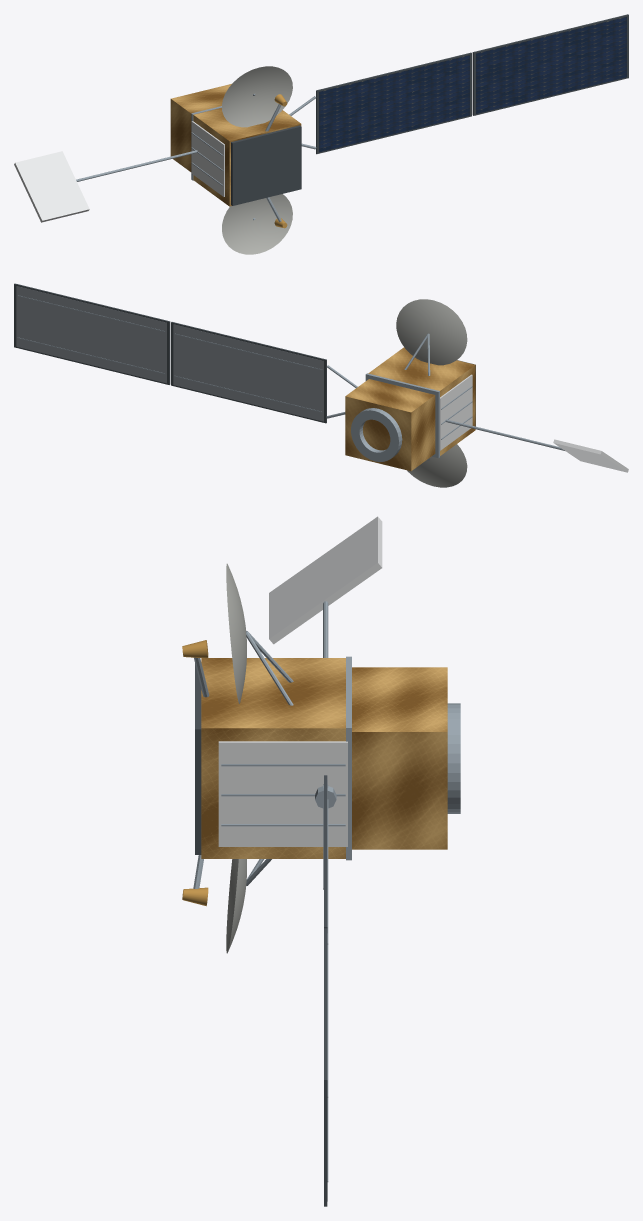
The model's file is ref-i2k-22027.glb.
3 renders of one model, top to bottom at view 1: azimuth 30°, elevation 25°; view 2: azimuth 150°, elevation 25°; view 3: azimuth 270°, elevation 25°, orthographic. The views are drawn at different scales.
Parts seen in each view (by area): view 1: Solar cell panel (×2), Communications reflector (×2), Earth-facing deck, Solar pressure sail, Payload module, Service module, Solar panel frame (×2), Radiator face, Outboard boom; view 2: Rear array substrate (×2), Service module, Communications reflector (×2), Payload module, Solar panel frame (×2), Radiator face, Launch adapter ring, Solar pressure sail, Module interface, Outboard boom; view 3: Service module, Payload module, Radiator face, Solar pressure sail, Communications reflector (×2), Launch adapter ring, Earth-facing deck, Solar panel frame, Module interface.
Boxes of the visible parts, x1,y1,x2,y2 form: Solar cell panel (×2): (319,17,626,152); Communications reflector (×2): (222,66,292,254); Earth-facing deck: (231,125,301,205); Solar pressure sail: (14,151,89,222); Payload module: (193,108,301,206); Service module: (170,84,231,171); Solar panel frame (×2): (316,14,628,154); Radiator face: (191,121,224,196); Outboard boom: (76,150,197,181); Rear array substrate (×2): (16,286,323,421); Service module: (345,379,435,471); Communications reflector (×2): (396,299,467,487); Payload module: (368,347,475,455); Solar panel frame (×2): (14,283,326,423); Radiator face: (439,374,472,450); Launch adapter ring: (351,408,402,461); Solar pressure sail: (553,439,628,472); Module interface: (365,373,439,458); Outboard boom: (445,419,564,450); Service module: (352,667,447,849); Payload module: (201,658,345,858); Radiator face: (218,741,347,846); Solar pressure sail: (269,516,382,644); Communications reflector (×2): (226,563,246,953); Launch adapter ring: (447,703,460,813); Earth-facing deck: (195,663,201,854); Solar panel frame: (324,928,327,1206); Module interface: (346,656,351,860).
Bounding box in the file's own units: 13.37 × 3.96 × 2.68.
Materials: 8 (2 with a texture image).
